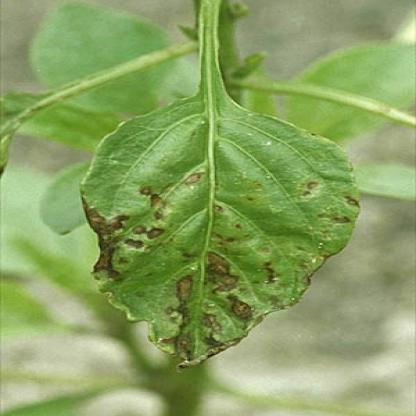bell pepper leaf spot: (69, 86, 372, 386)
